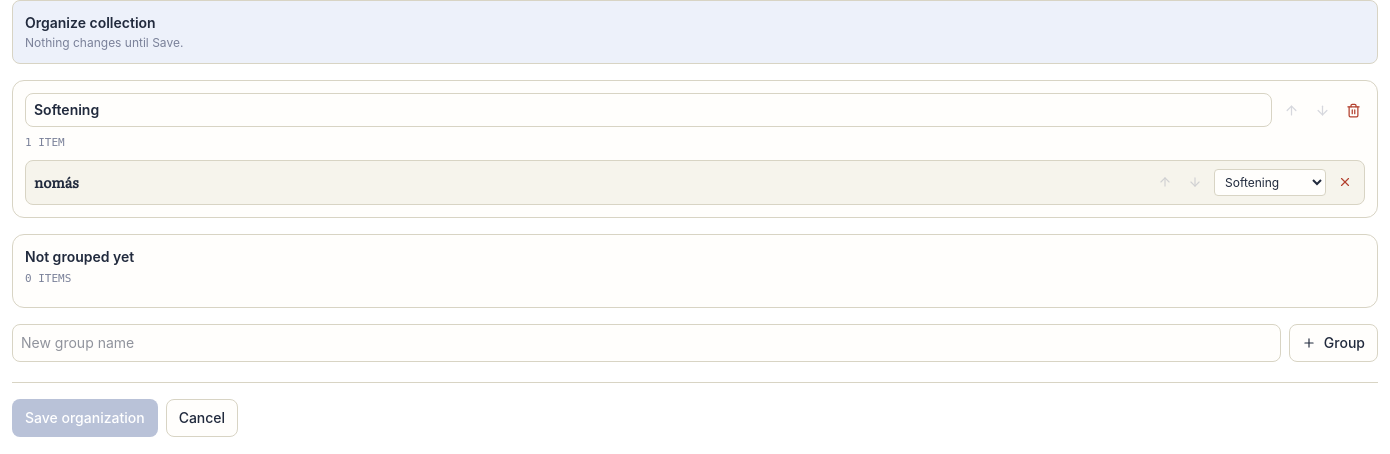
Test case: CollectionOrganizer contextual removal confirmation › removes immediately when the supplied contextual impact total is zero
Click the button named "Remove nomás from collection". click: (1345, 182)
box: x1=1334 y1=171 x2=1356 y2=193
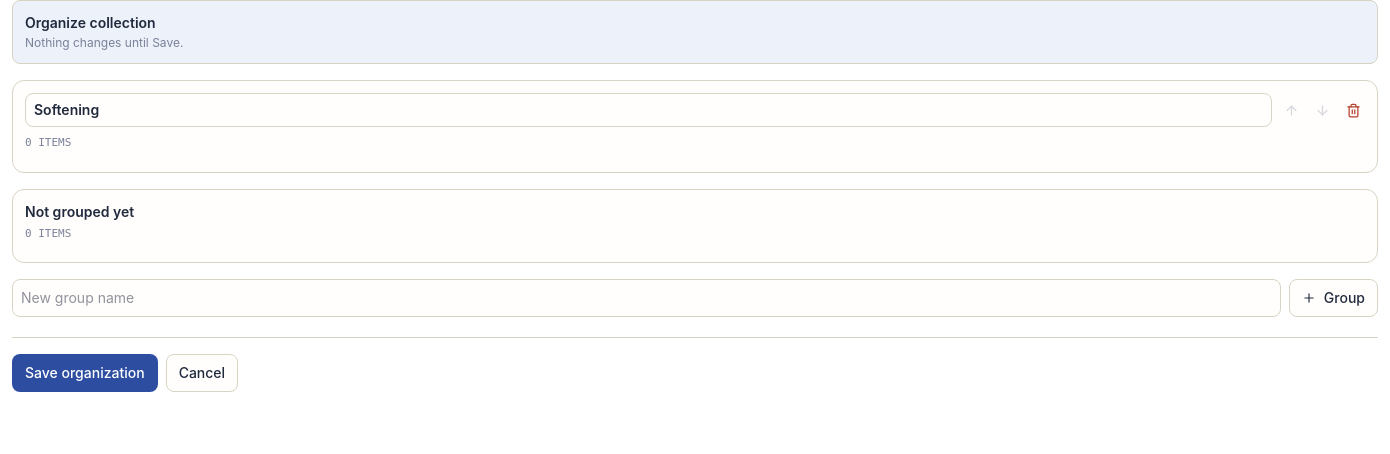
Expected: the text "nomás" is gone
